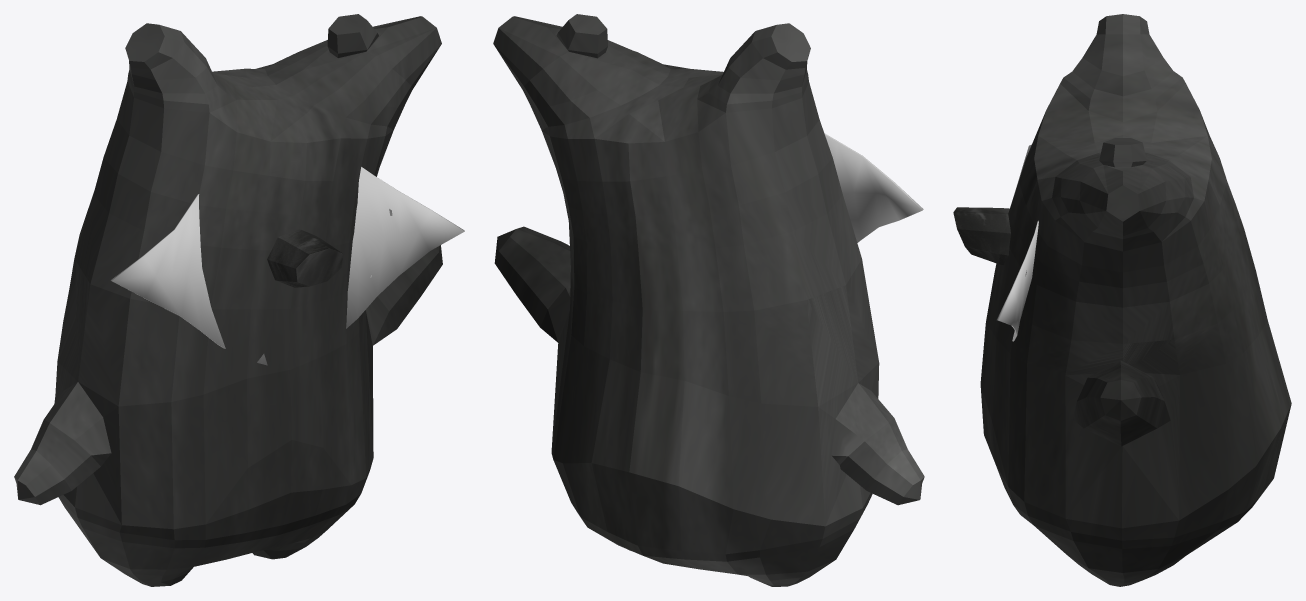
File: frame_0066.obj
The picture shows the model from 3 angles, left to right: view 1: azimuth 30°, elevation 25°; view 2: azimuth 150°, elevation 25°; view 3: azimuth 270°, elevation 25°; orthographic projection. The views are drawn at different scales.
Visible parts, largest first — view 1: korok, leaf, nose; view 2: korok, leaf; view 3: korok, nose, leaf.
Part boxes in pixels (x1,y1,x2,y2): korok: (14, 14, 442, 586); leaf: (111, 167, 464, 365); nose: (267, 229, 342, 287); korok: (493, 14, 924, 586); leaf: (824, 133, 923, 242); korok: (980, 14, 1291, 586); nose: (953, 207, 1010, 265); leaf: (997, 144, 1038, 341).
Size of the model in its own units: 1.7 by 2.14 by 1.27.
